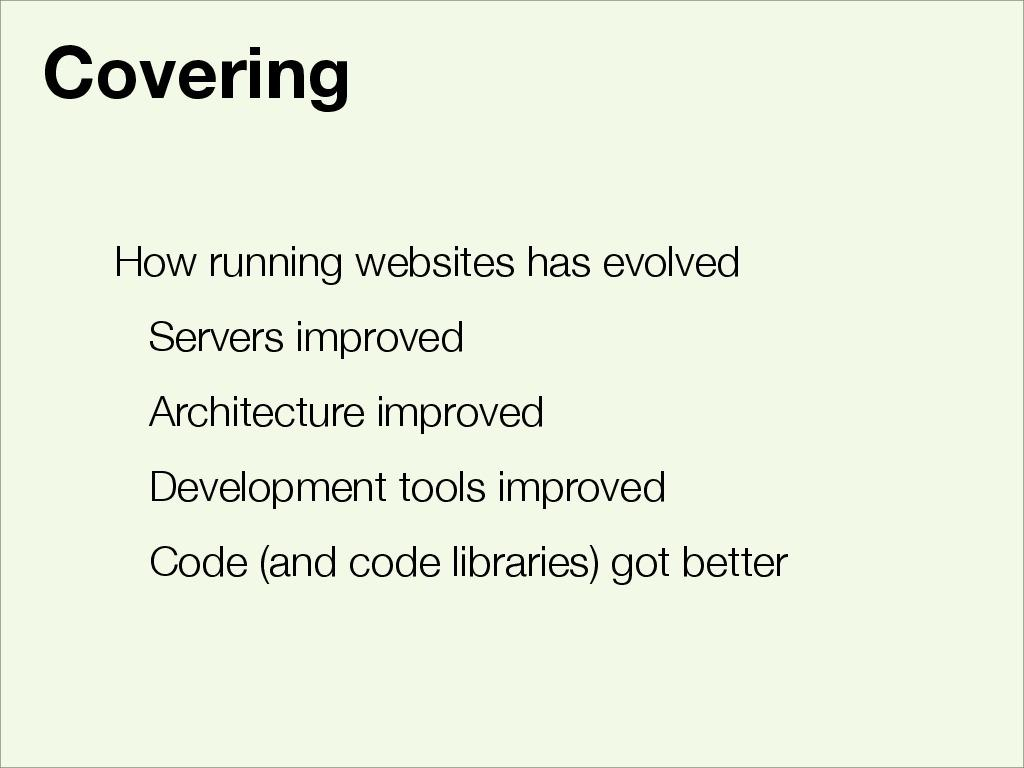paragraph: (105, 228, 841, 620)
title: (38, 39, 355, 129)
